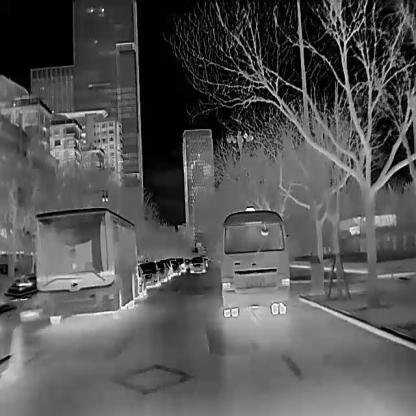bus: (32, 206, 138, 322)
car: (218, 203, 290, 316), (0, 291, 25, 379), (141, 261, 159, 290), (188, 255, 205, 273), (136, 264, 145, 293), (156, 261, 166, 283)
